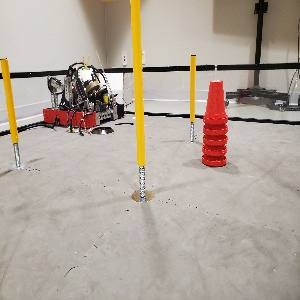Red_5: (201, 79, 227, 168)
